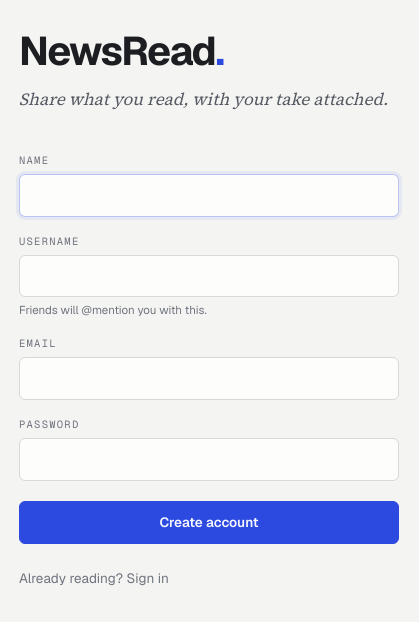
Test: RegisterPage › shows a generic error for non-Error rejections
Type "Al" into the field labelled "Name".
click(209, 195); type("Al")  # box [19,174,399,217]
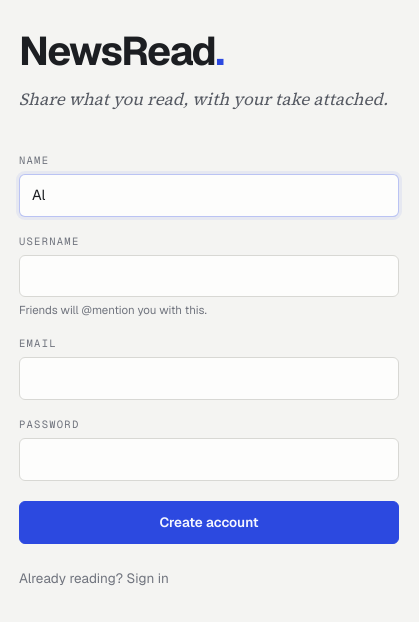
Type "alice" into the field labelled "Username".
click(209, 276); type("alice")  # box [19,255,399,297]
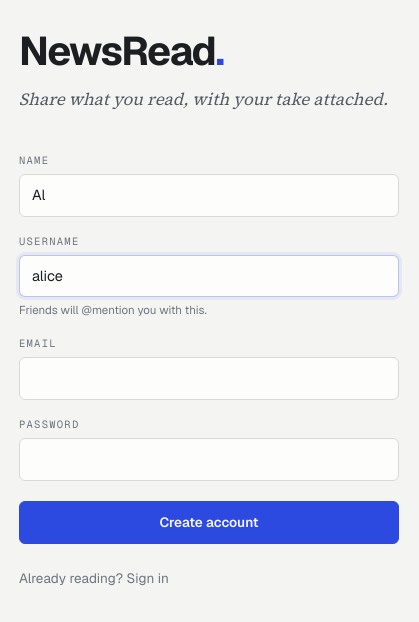
Type "a@b.c" into the field labelled "Email".
click(209, 379); type("a@b.c")  # box [19,357,399,400]
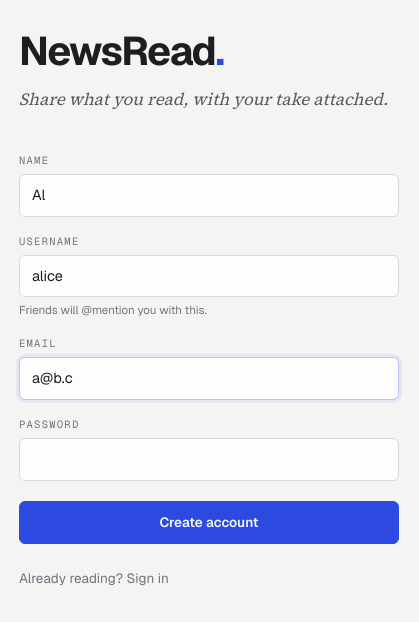
Type "password123" into the password field labelled "Password".
click(209, 459); type("password123")  # box [19,438,399,481]
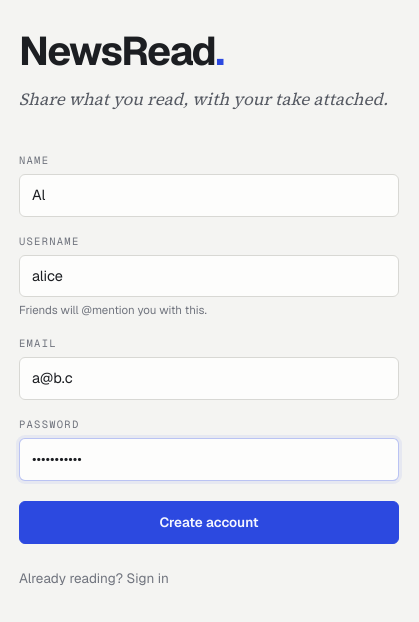
Click the button "Create account".
click(209, 522)  # box [19,501,399,544]
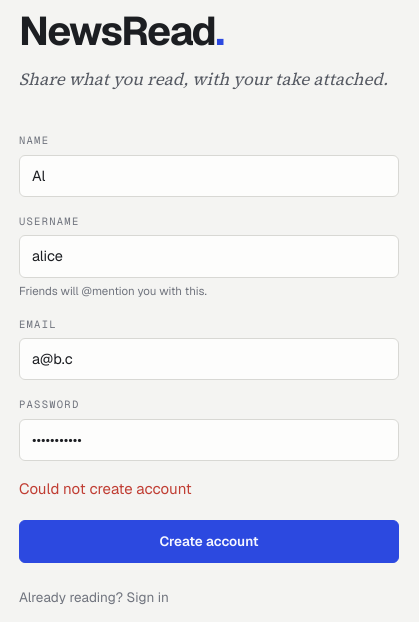
Expected: the text "Could not create account" is shown, [19,479,192,498]
